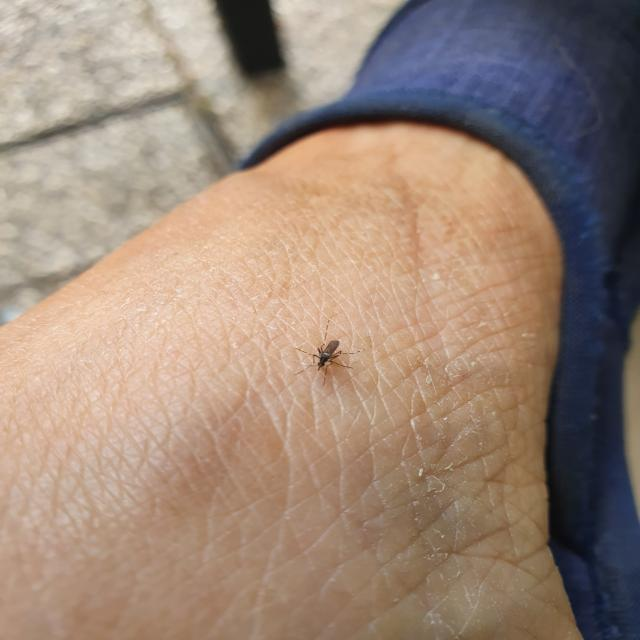albopictus: (289, 315, 368, 385)
